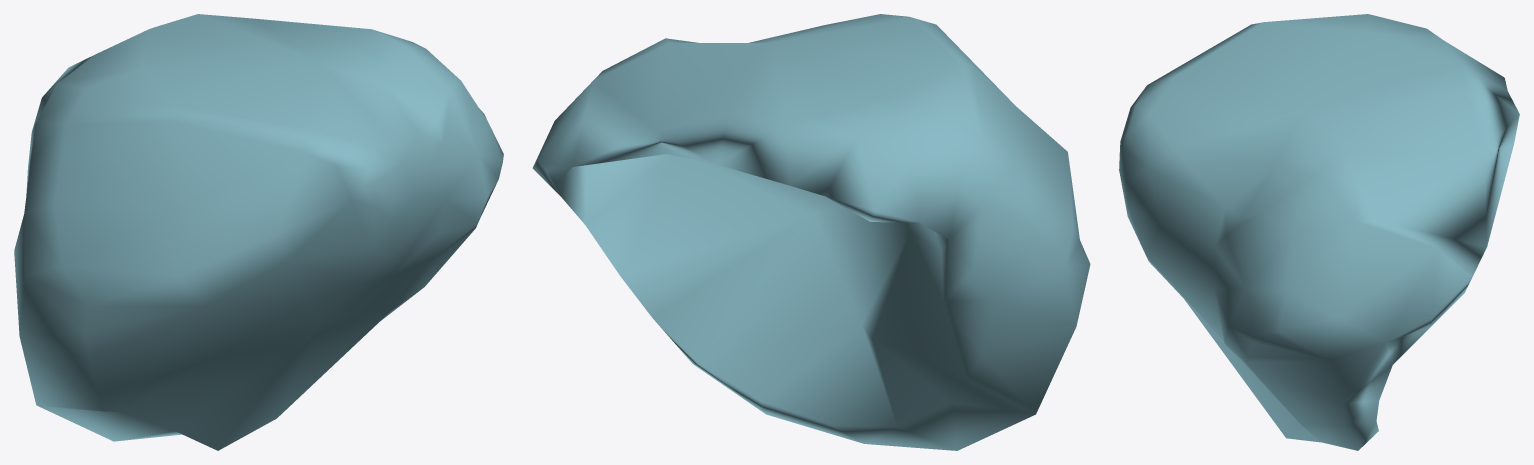
3 renders of one model, left to right at view 1: azimuth 30°, elevation 25°; view 2: azimuth 150°, elevation 25°; view 3: azimuth 270°, elevation 25°, orthographic. The views are drawn at different scales.
Parts seen in each view (by area): view 1: 右侧颞下颌关节盘; view 2: 右侧颞下颌关节盘; view 3: 右侧颞下颌关节盘.
Boxes of the visible parts, bbox=[...] form: 右侧颞下颌关节盘: bbox=[14, 14, 503, 450]; 右侧颞下颌关节盘: bbox=[532, 14, 1090, 450]; 右侧颞下颌关节盘: bbox=[1119, 14, 1519, 450].
Bounding box in the file's own units: 0.0285 × 0.0205 × 0.0198.
